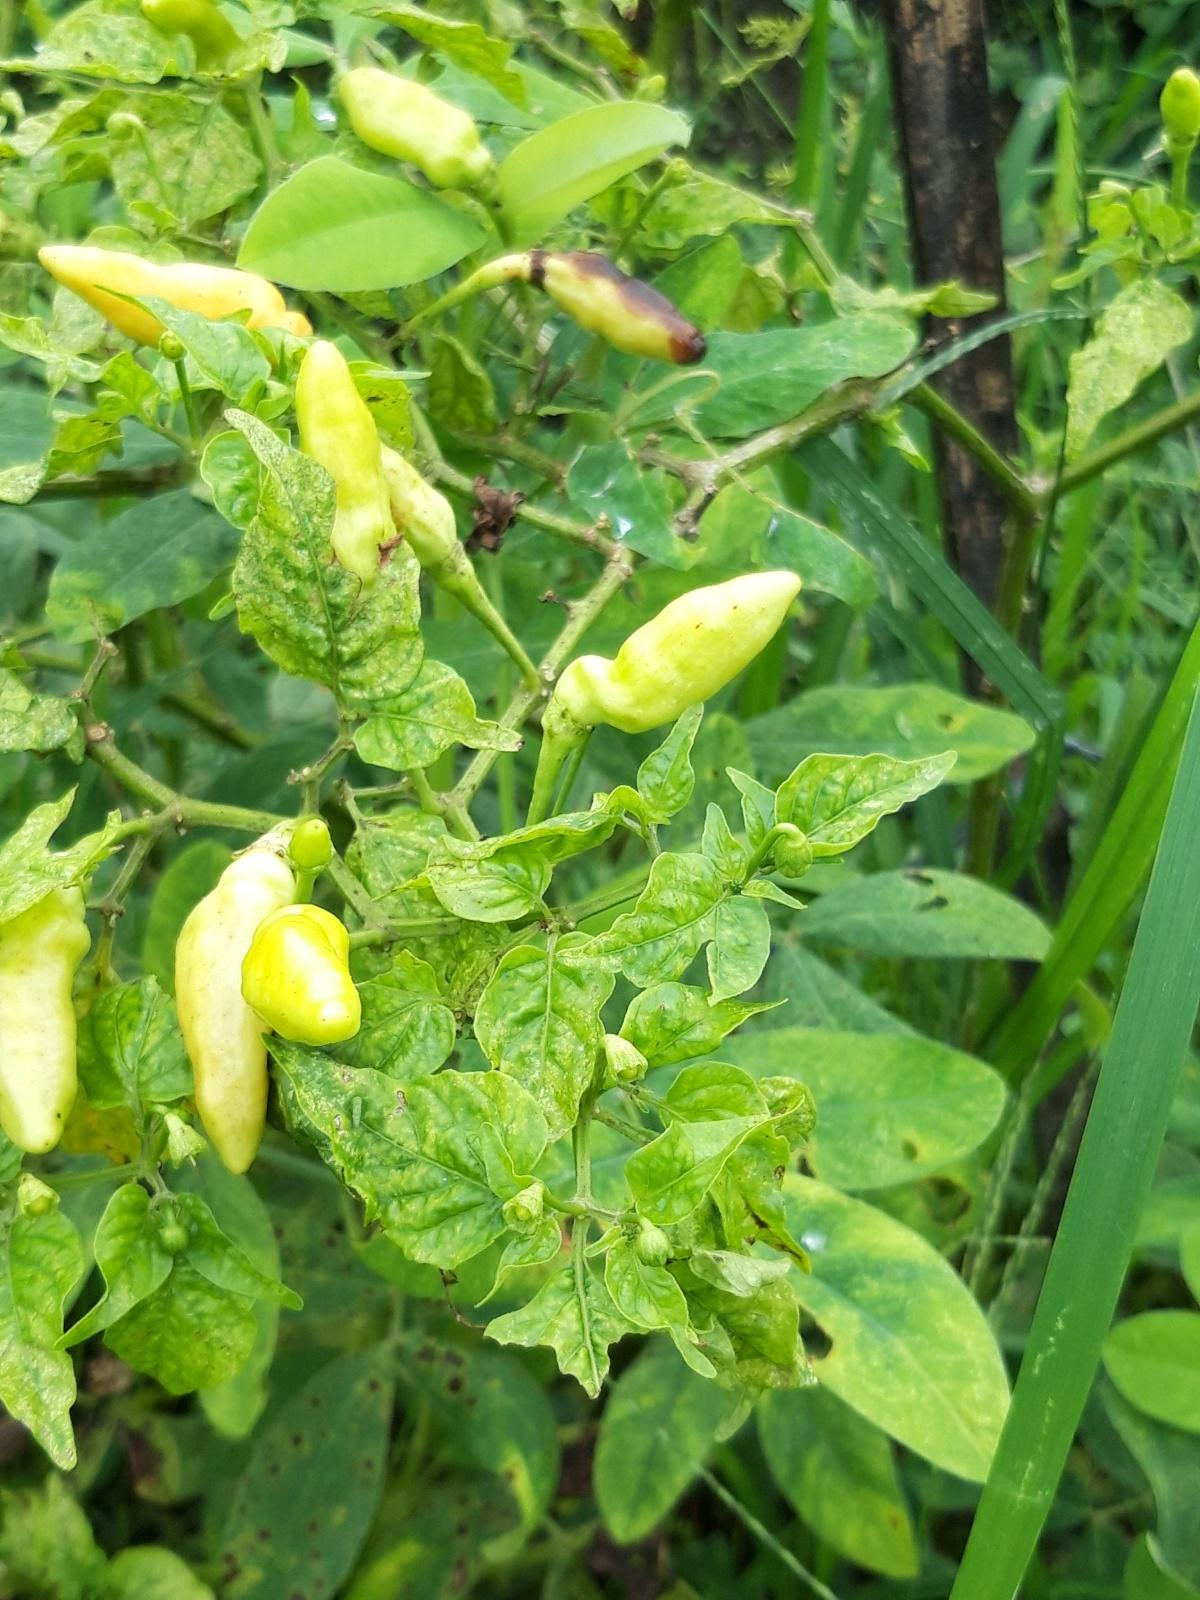cabai_normal: (553, 569, 803, 734), (173, 842, 294, 1175), (34, 249, 306, 360), (292, 339, 391, 577), (0, 876, 83, 1150), (239, 900, 362, 1044), (338, 68, 487, 176), (376, 446, 458, 572)
lalat_buah: (523, 248, 708, 368)
